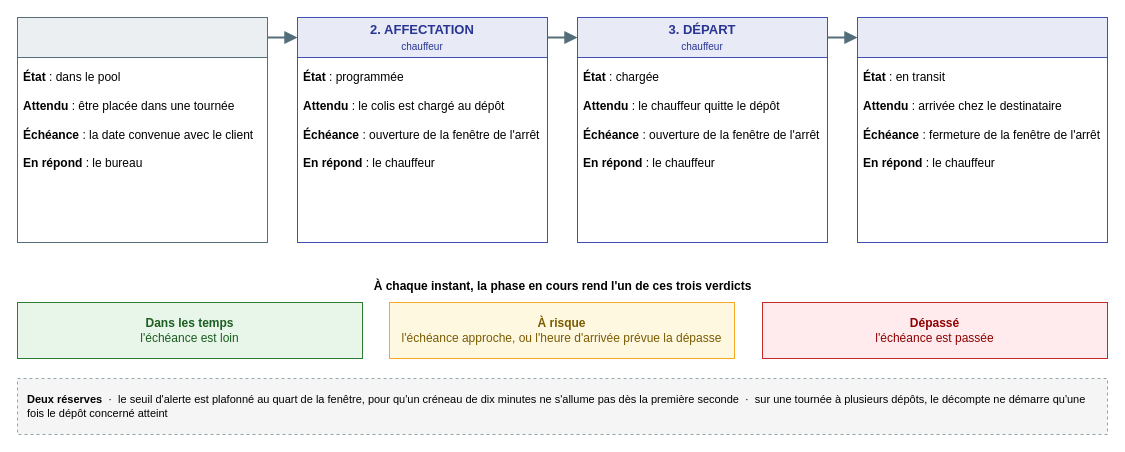
Image size: 1125x452. Some labels were removed from this diagram. Each missing label, with the centre of its shape:
"1. PLANIFICATION bureau" belongs at [142,37].
"4. LIVRAISON chauffeur" belongs at [982,37].
